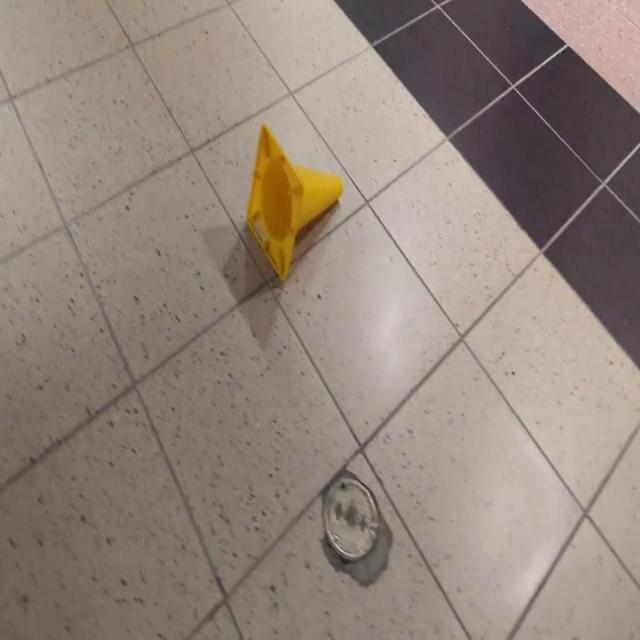frc_cone: (245, 122, 343, 281)
